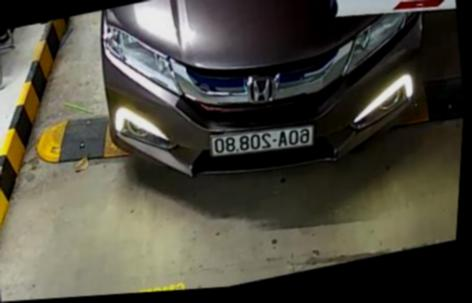License_Plate: (207, 113, 322, 164)
